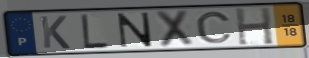C: (194, 10, 234, 45)
H: (233, 6, 276, 47)
K: (38, 15, 72, 50)
L: (79, 12, 111, 49)
N: (116, 11, 155, 49)
X: (153, 9, 196, 49)
